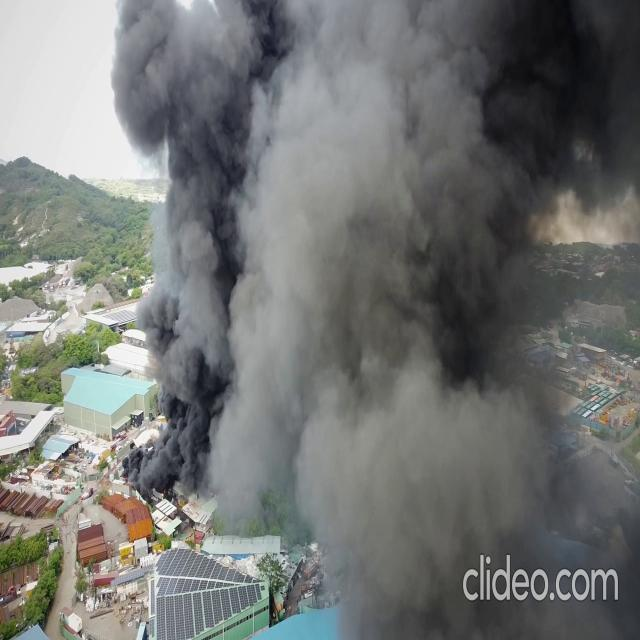Smoke: (86, 0, 640, 568)
